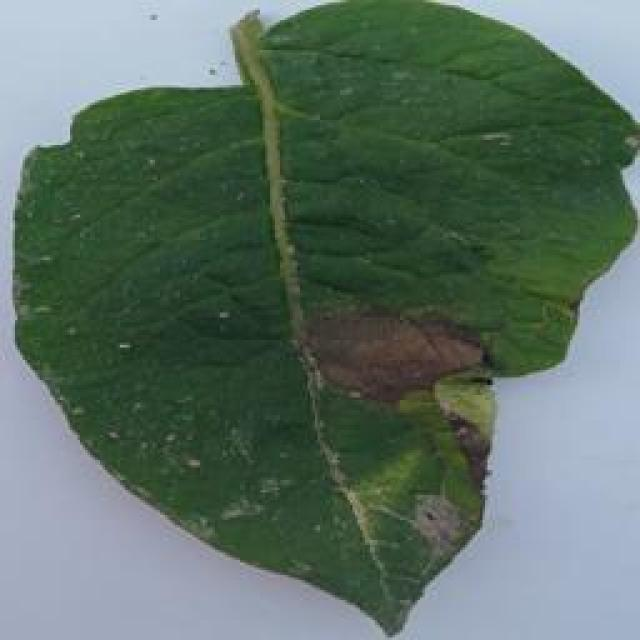Potato_Late_Blight: (11, 4, 630, 634)
